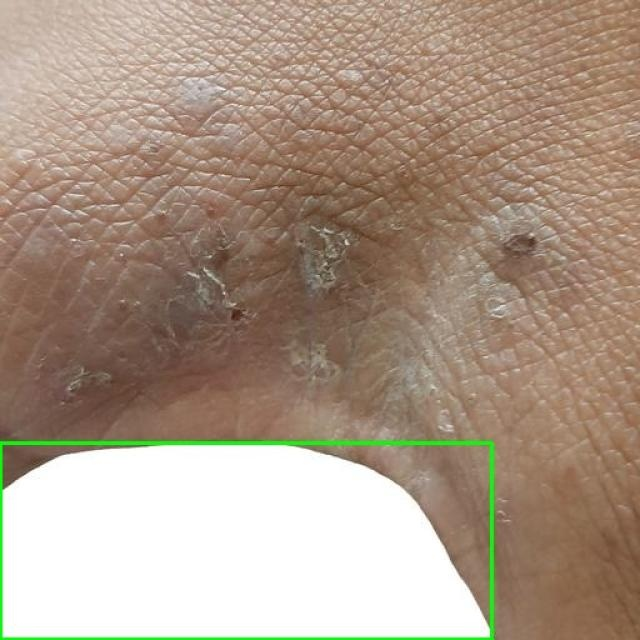Scabies: (0, 442, 491, 639)
